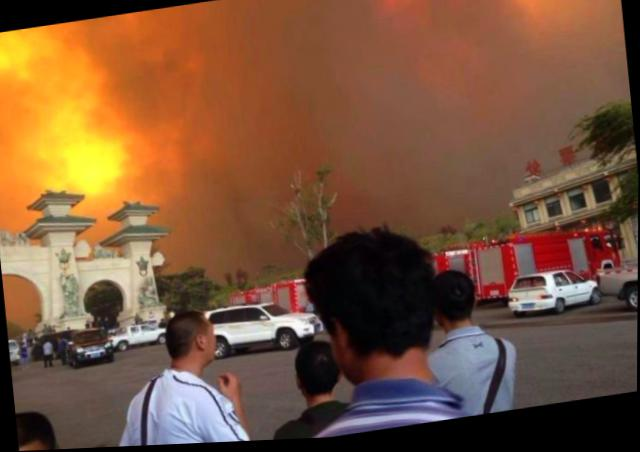fire: (0, 15, 133, 196)
